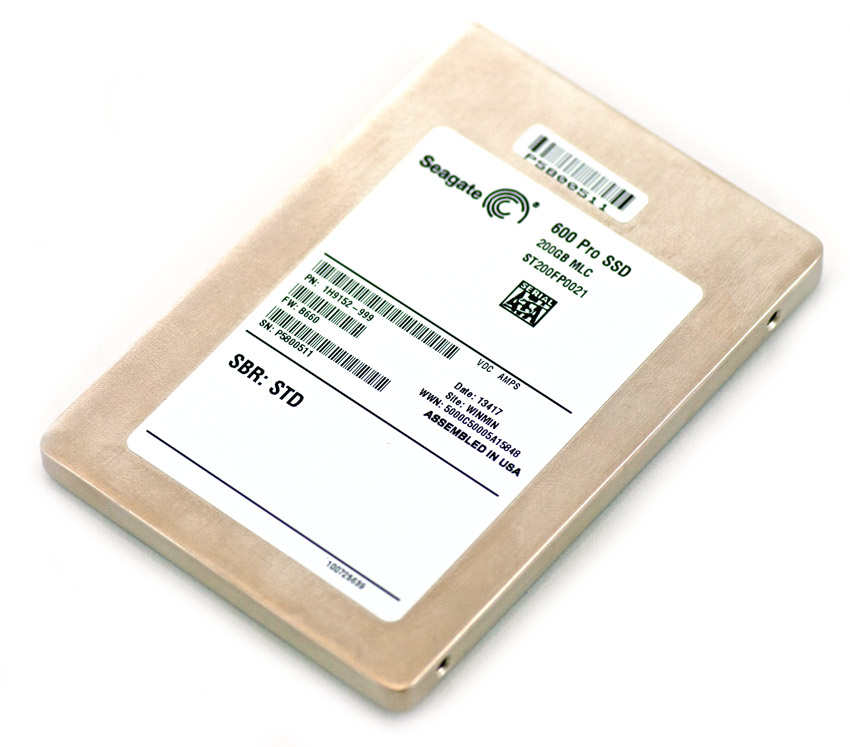seagate-hdd-240gb: (17, 22, 809, 702)
